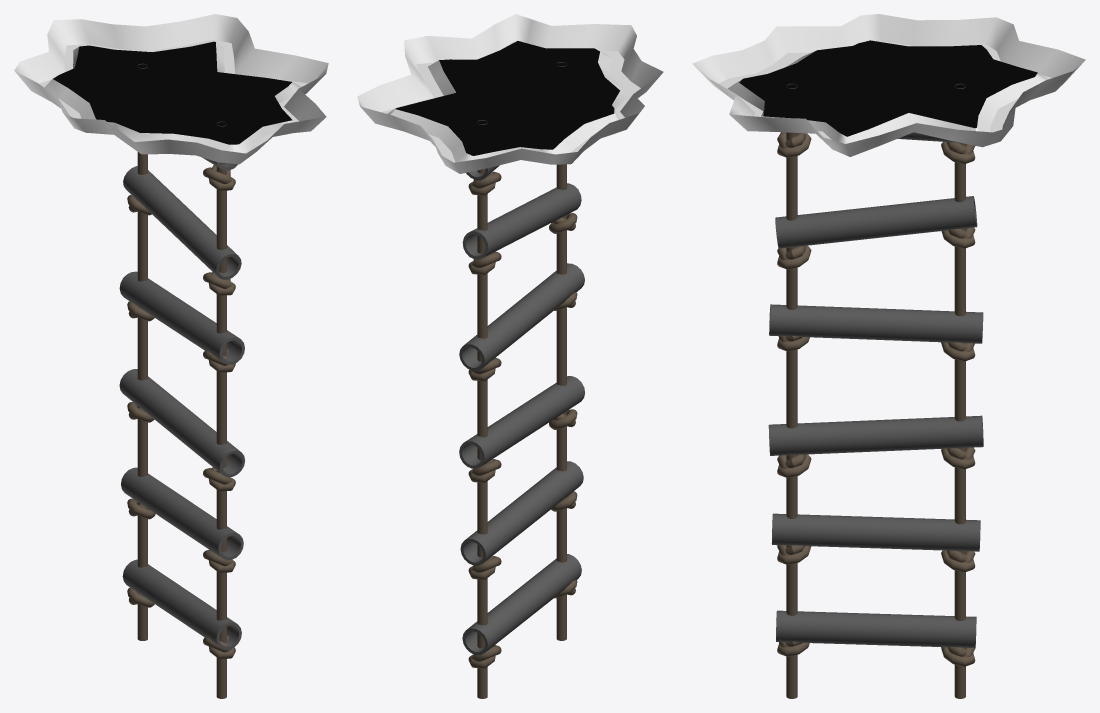
File: RopeLadder.fbx
3 views of the same model, side by side, from view 1: azimuth 30°, elevation 25°; view 2: azimuth 150°, elevation 25°; view 3: azimuth 270°, elevation 25° (orthographic). The views are drawn at different scales.
Parts seen in each view (by area): view 1: Hole, Pipes, Ropes; view 2: Hole, Pipes, Ropes; view 3: Hole, Pipes, Ropes.
Part boxes in pixels (x1,y1,x2,y2): Hole: [14, 14, 328, 164]; Pipes: [119, 157, 244, 649]; Ropes: [127, 63, 235, 698]; Hole: [357, 14, 663, 173]; Pipes: [459, 165, 584, 655]; Ropes: [468, 62, 577, 698]; Hole: [692, 14, 1085, 156]; Pipes: [768, 132, 983, 648]; Ropes: [777, 83, 975, 698].
Size of the model in its own units: 5.48 by 12.21 by 7.02.
